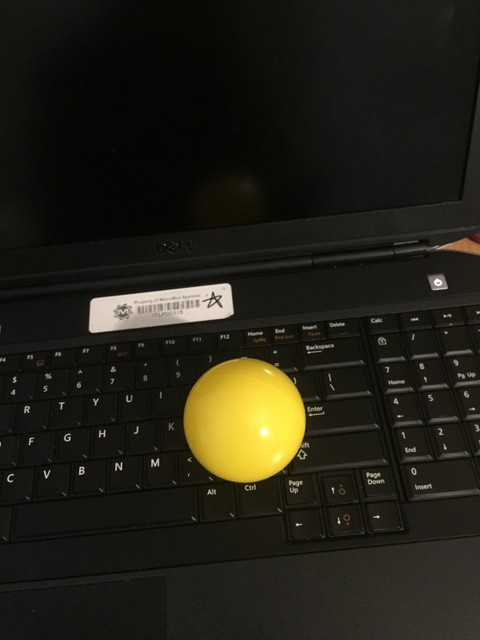ball: (180, 358, 308, 485)
